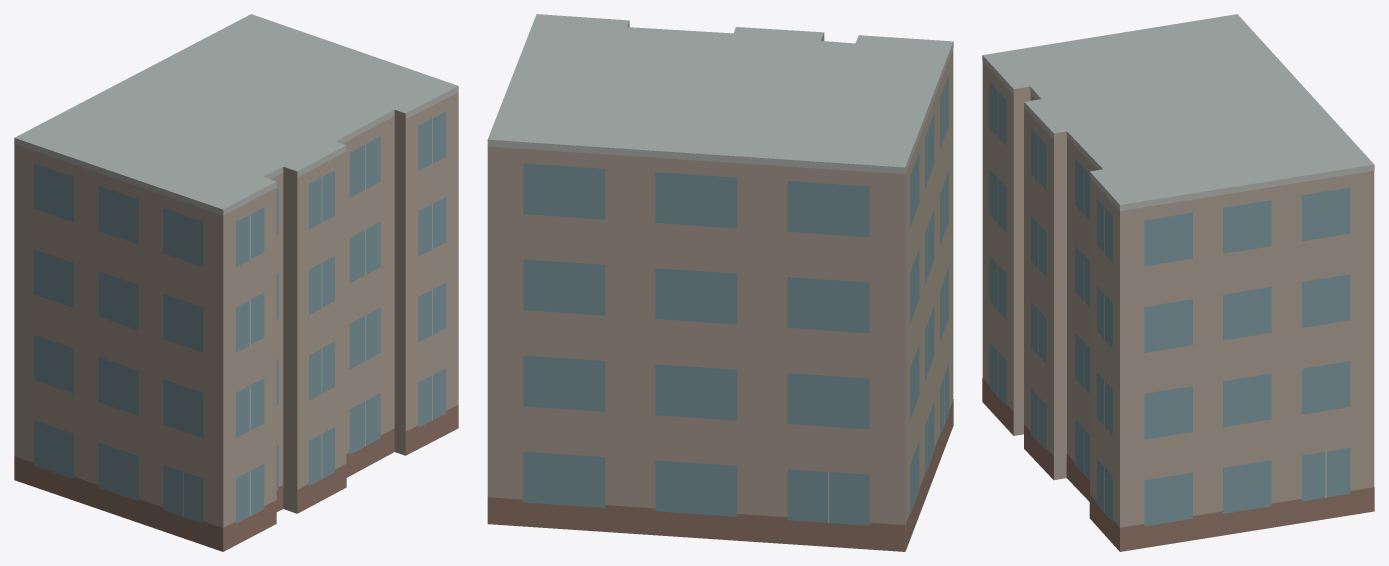
The model's file is survey-upis-32854548.glb.
The picture shows the model from 3 angles, left to right: view 1: azimuth 30°, elevation 25°; view 2: azimuth 150°, elevation 25°; view 3: azimuth 270°, elevation 25°; orthographic projection. The views are drawn at different scales.
Parts seen in each view (by area): view 1: survey-upis-32854548.tmp; view 2: survey-upis-32854548.tmp; view 3: survey-upis-32854548.tmp.
Part boxes in pixels (bbox=[...]): survey-upis-32854548.tmp: bbox=[14, 14, 458, 551]; survey-upis-32854548.tmp: bbox=[487, 14, 953, 551]; survey-upis-32854548.tmp: bbox=[982, 14, 1374, 551].
Bounding box in the file's own units: 16.31 × 13.8 × 14.14.
